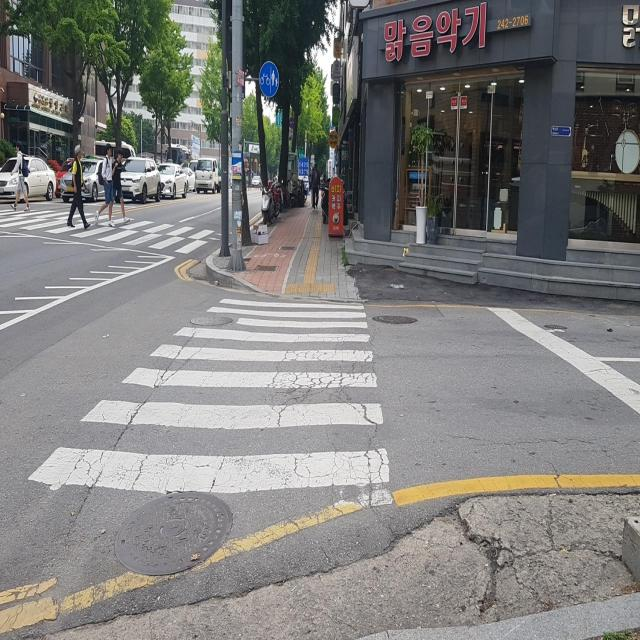횡단보도: (25, 297, 395, 511), (0, 204, 216, 260)
